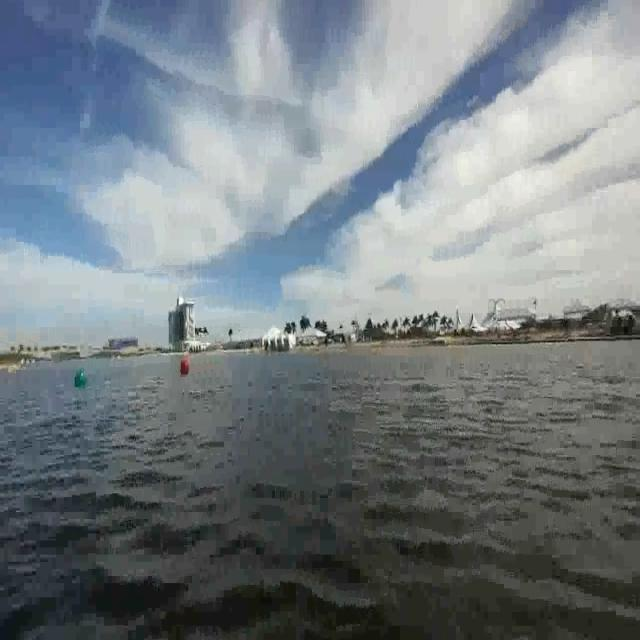green-buoy: (73, 370, 87, 390)
red-buoy: (182, 355, 194, 377)
